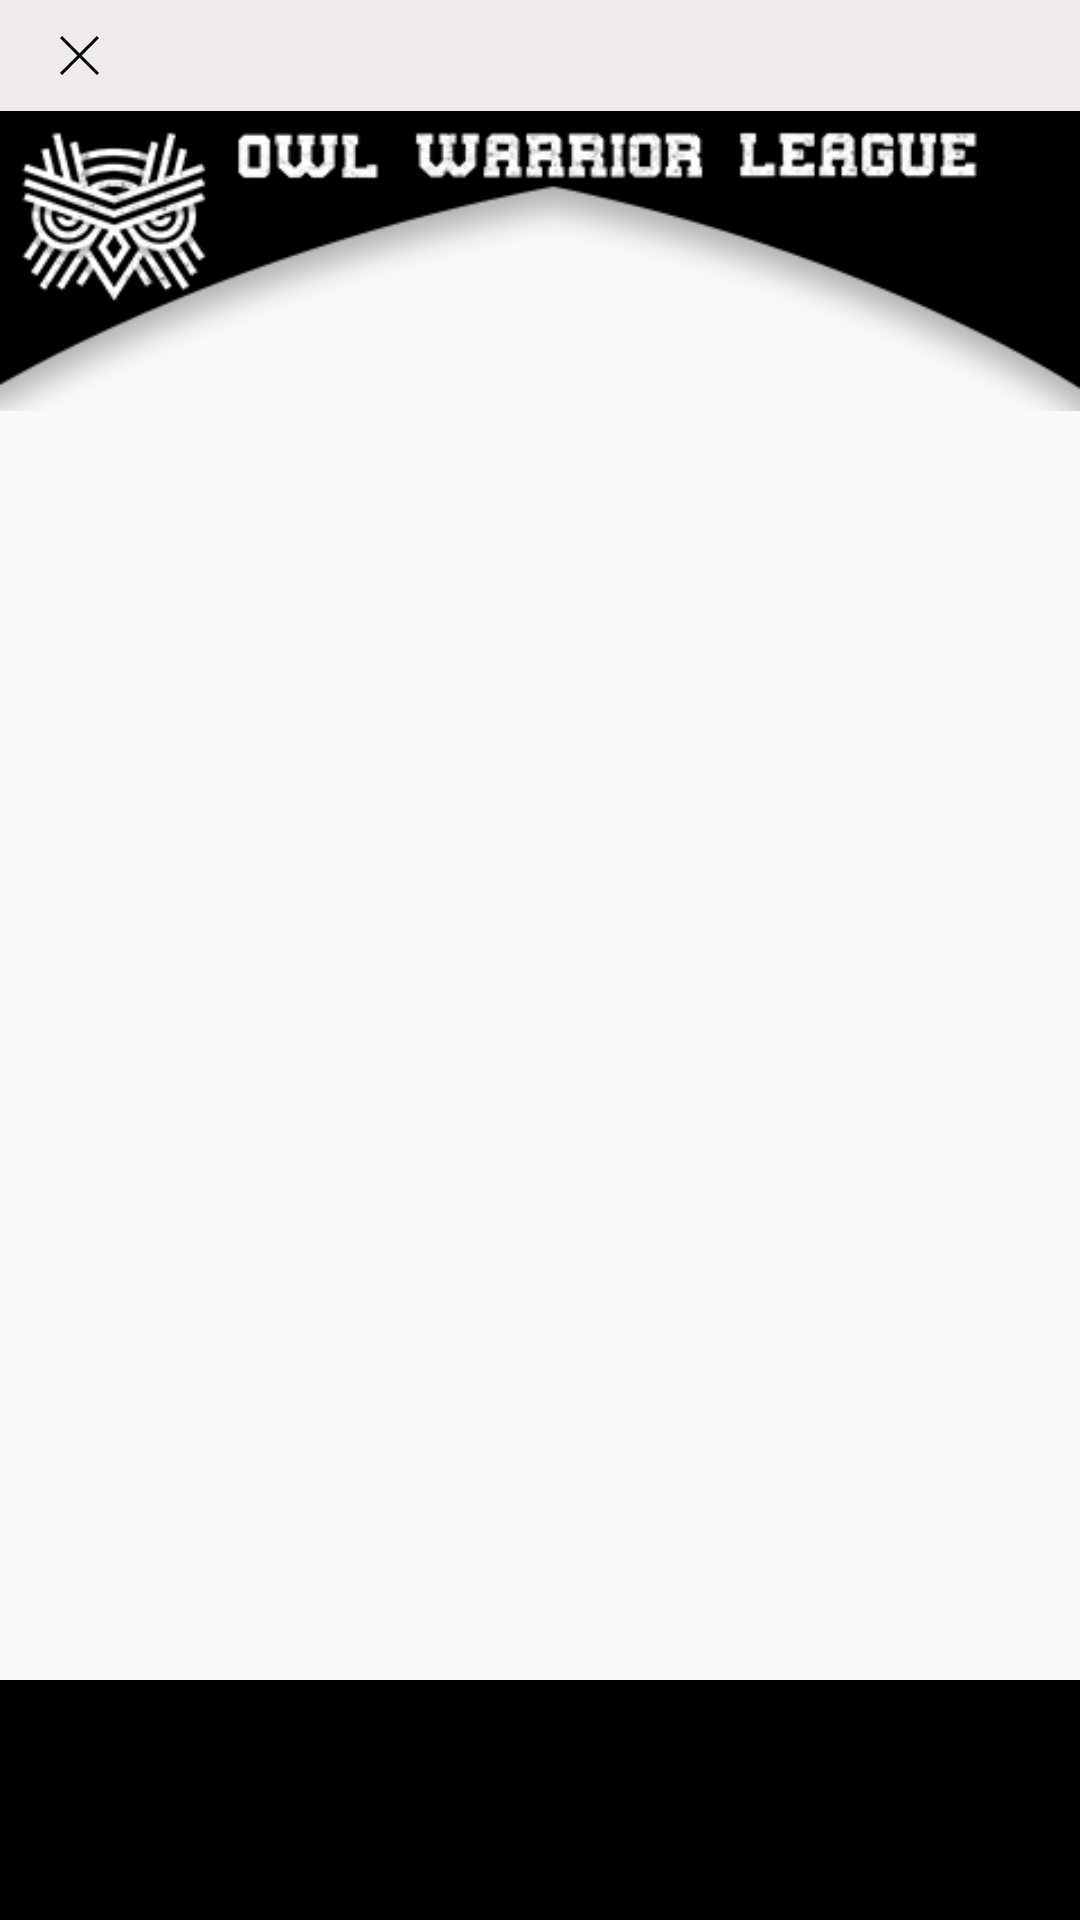

Where icons sit on this 1080×1920 app screen, as box(x1, y1, x2, y2):
close: box(60, 36, 99, 75)
